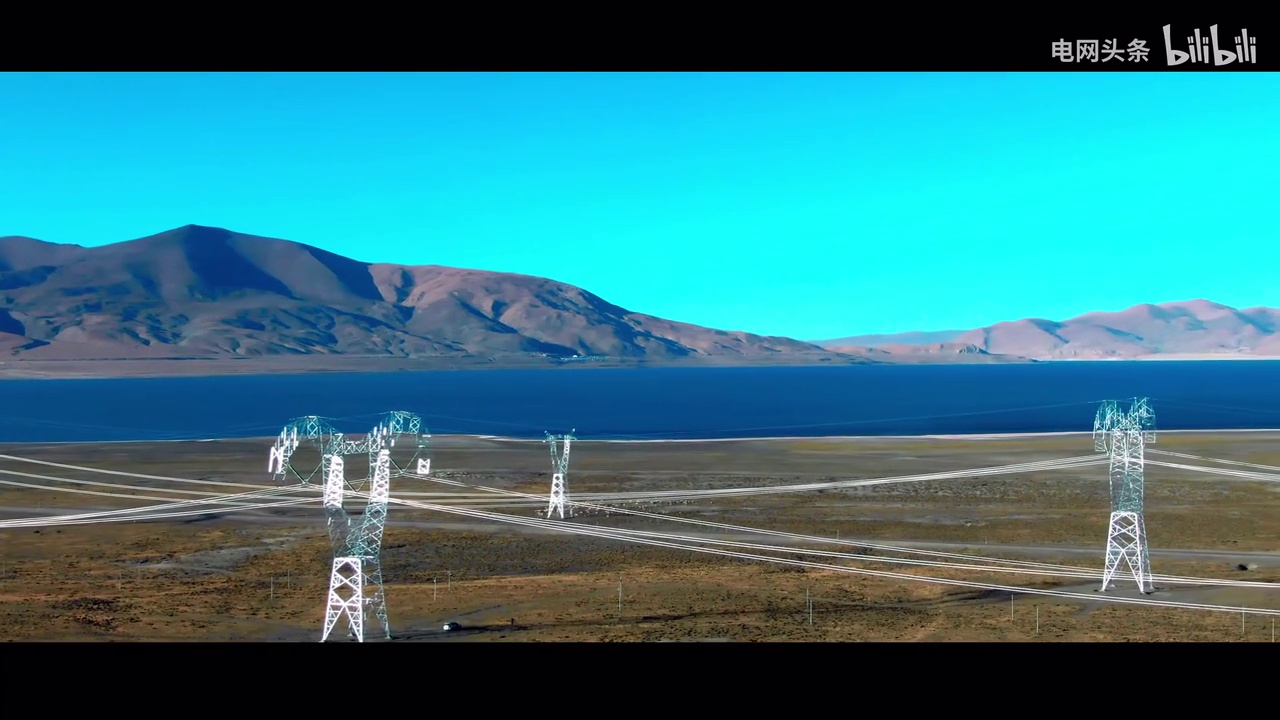tower_body: (259, 398, 447, 645), (1073, 387, 1174, 599), (538, 428, 585, 519)
tower_foot: (317, 553, 393, 642), (1101, 506, 1157, 593)
tower_head: (266, 405, 436, 511), (1083, 393, 1165, 462)
